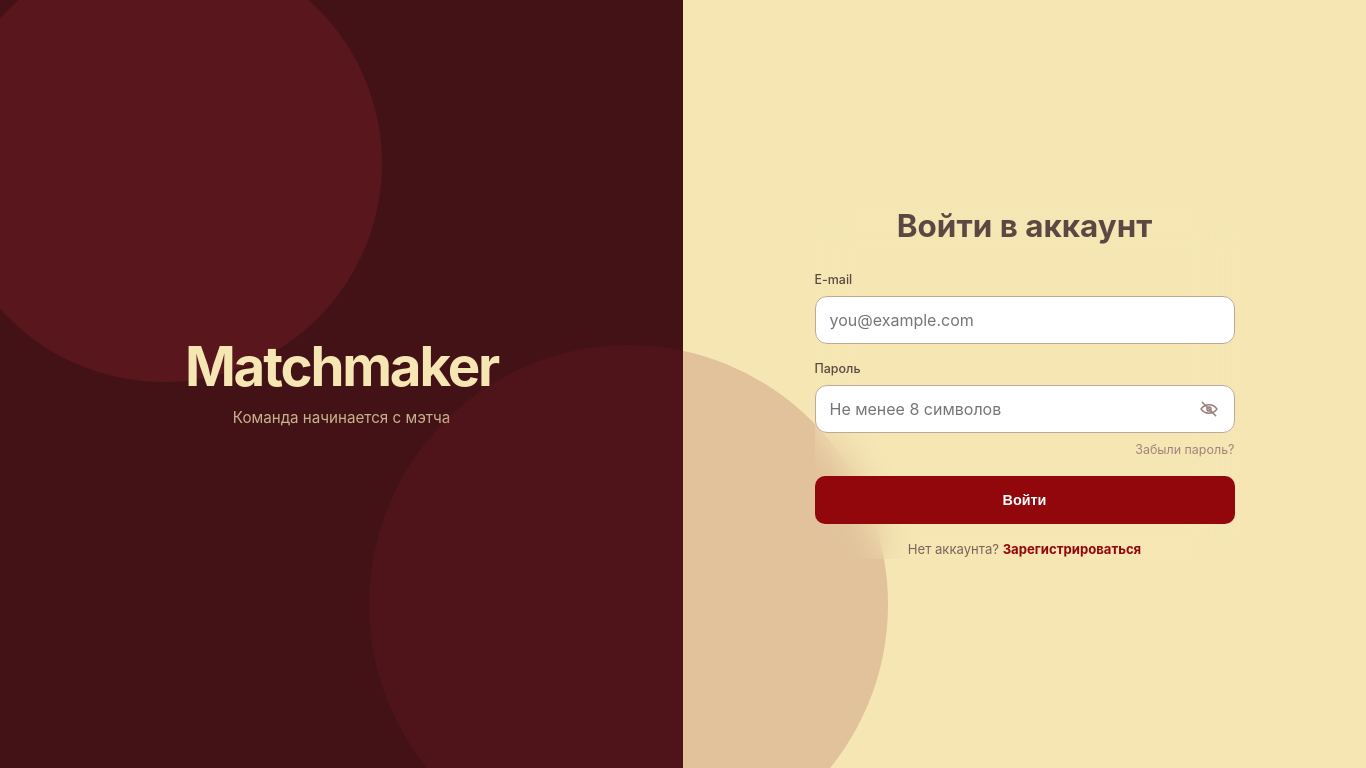
Scenario: auth pages › shows auth errors from the provider on the login form
Type "TEST@example.com" into the field labelled "E-mail". click: point(1024, 320)
box: [814, 296, 1234, 344]
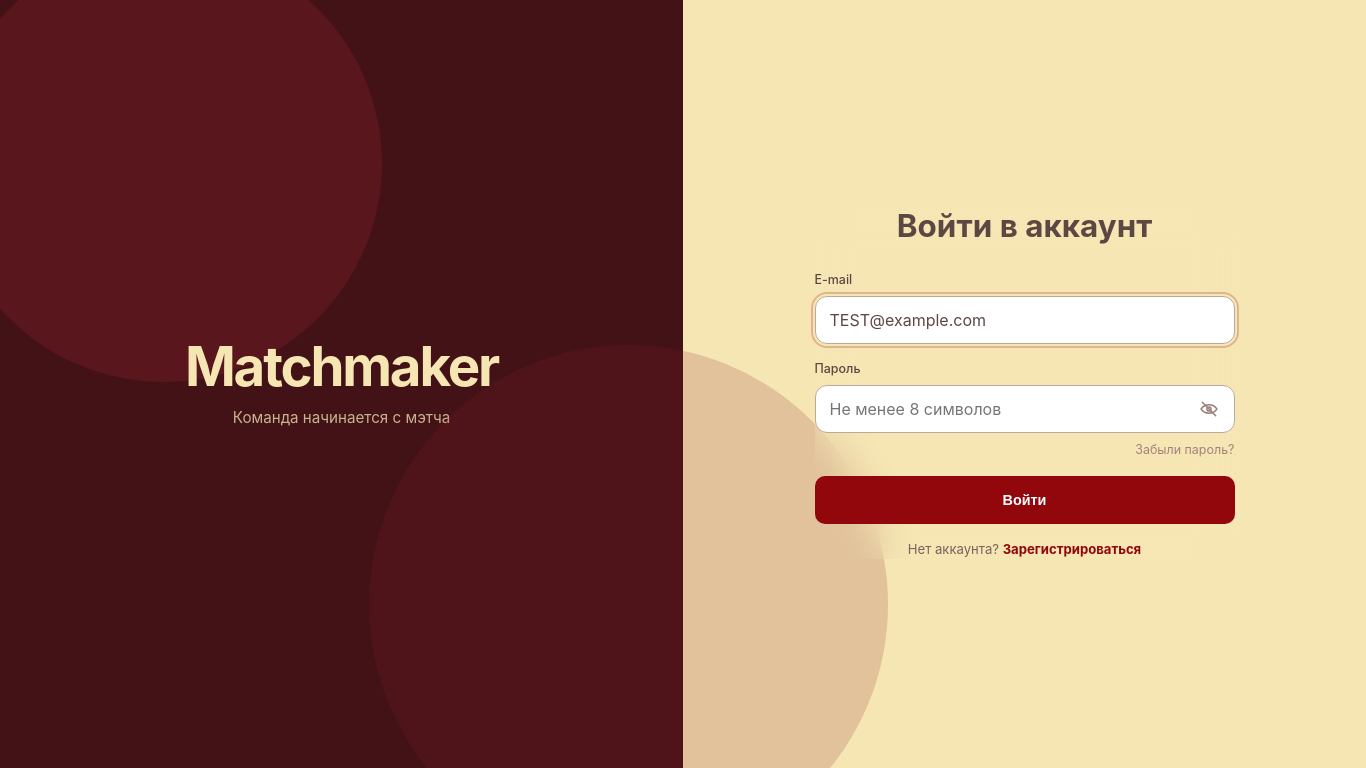
Type "wrong-password" into the password field labelled "Пароль". click: point(1024, 409)
box: [814, 385, 1234, 433]
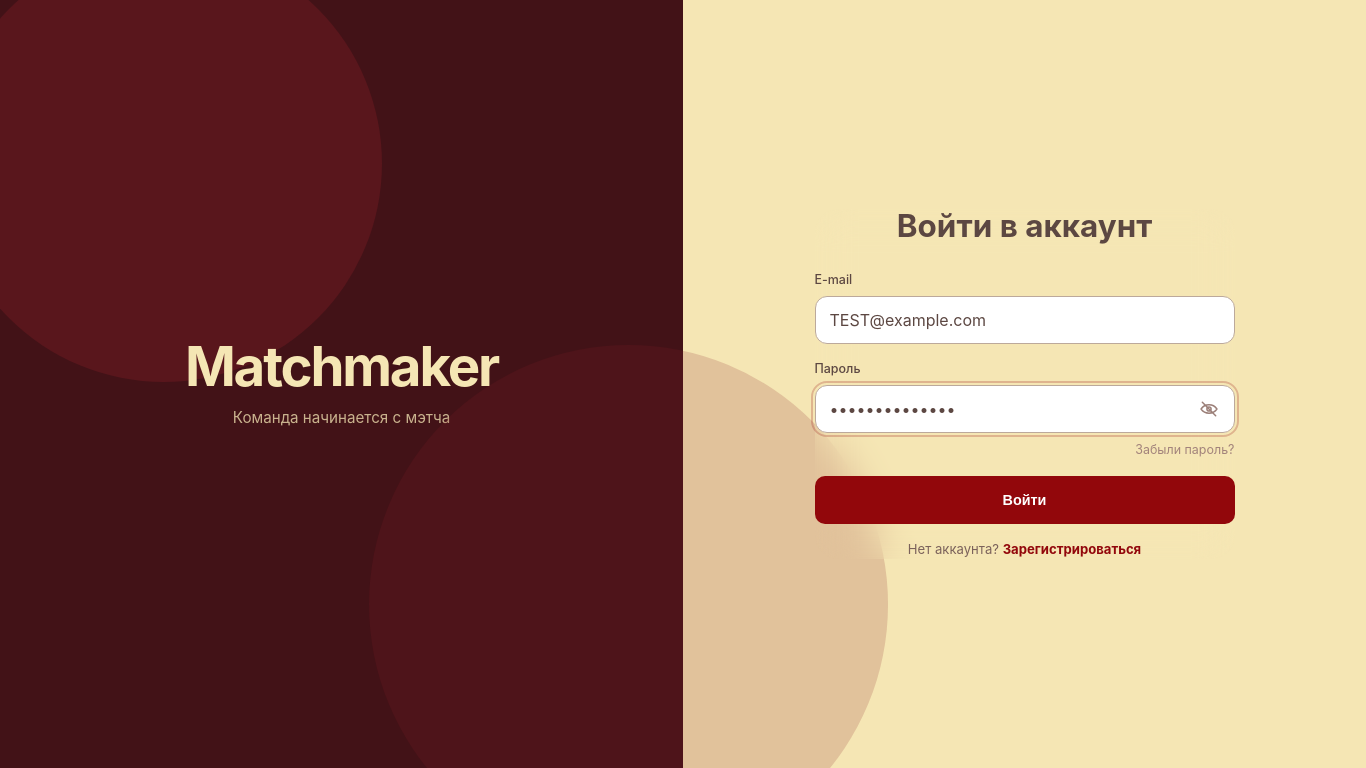
Click the button "Войти". click: point(1024, 500)
box: [814, 476, 1234, 524]
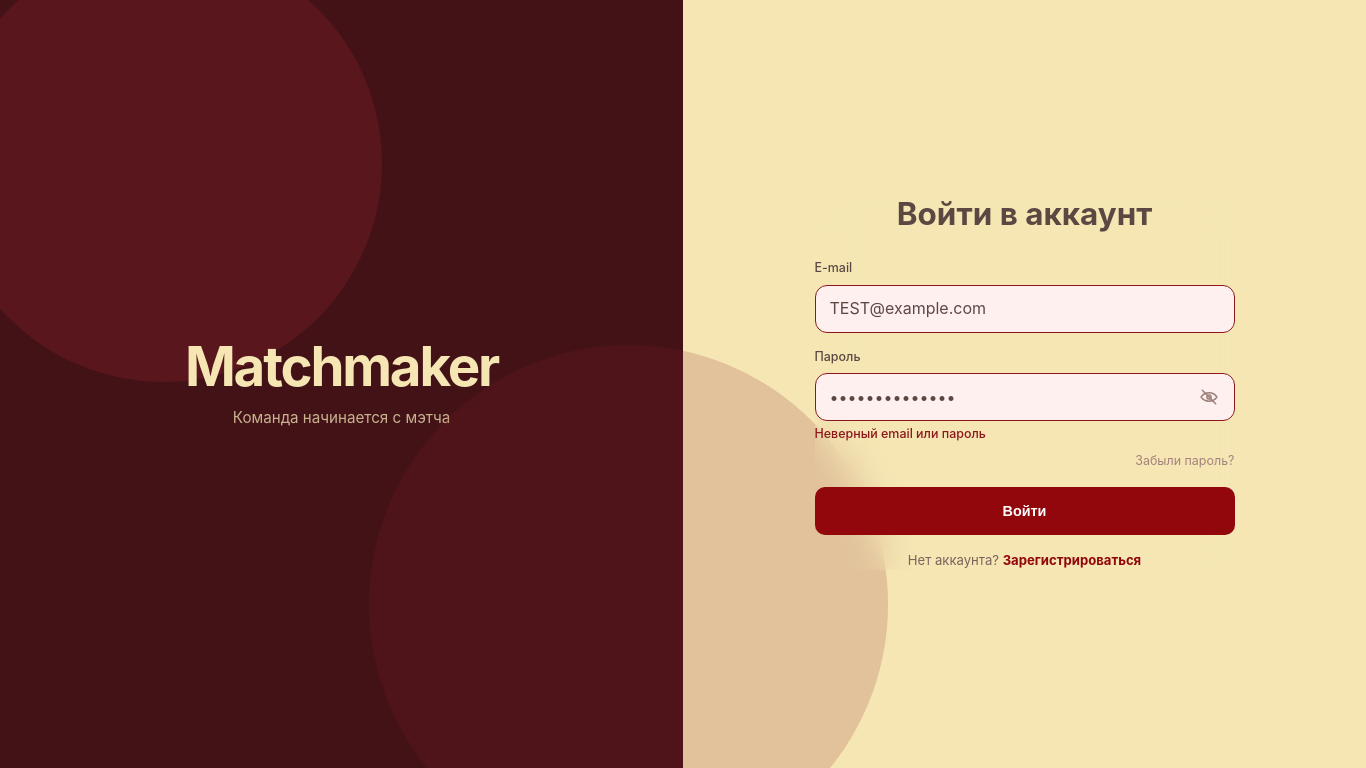
Expected: the message reads "Неверный email или пароль", [814, 426, 986, 441]
